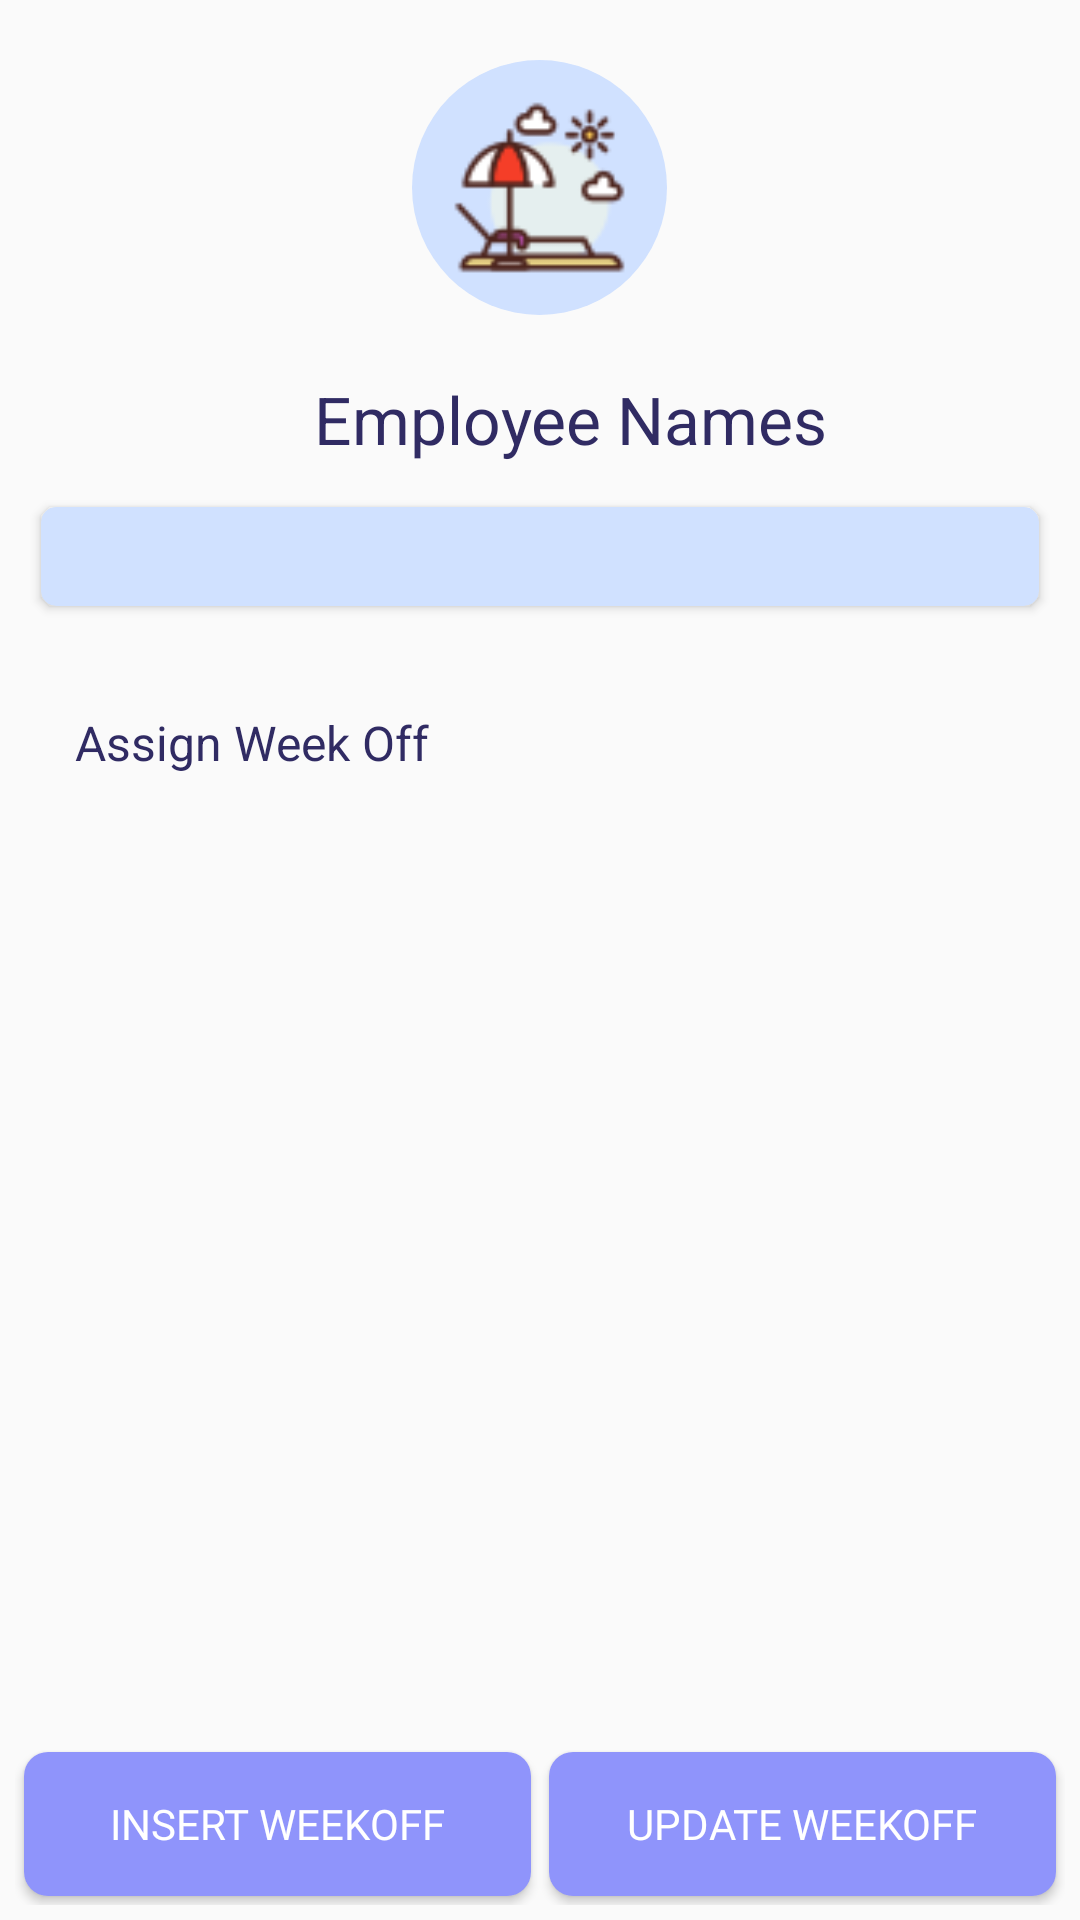

Icon bounding boxes for this 1080 × 1920 phone screenshot, format (x1, y1, x2, y2):
sunbathing: (412, 60, 667, 315)
